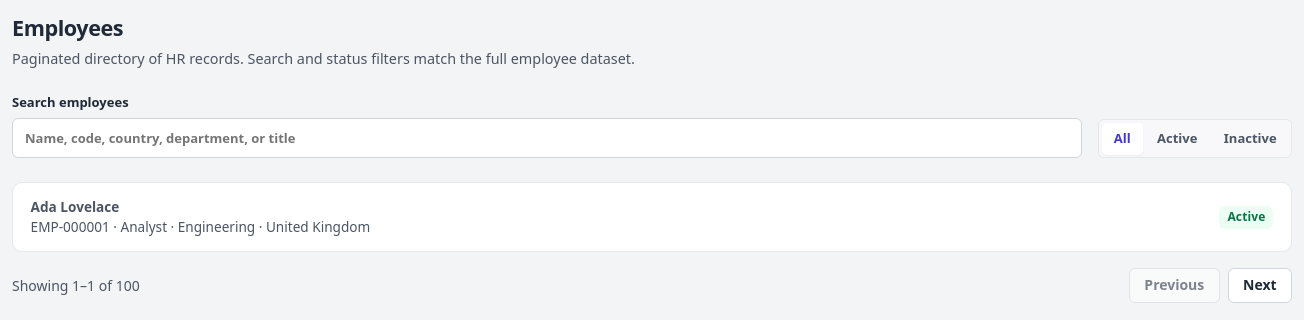
Test: search and status are requested together and reset pagination
Expected: the text "Ada Lovelace" is shown, [31,197,119,216]
Click the button "Next".
click(1260, 286)  # box [1228,268,1292,303]
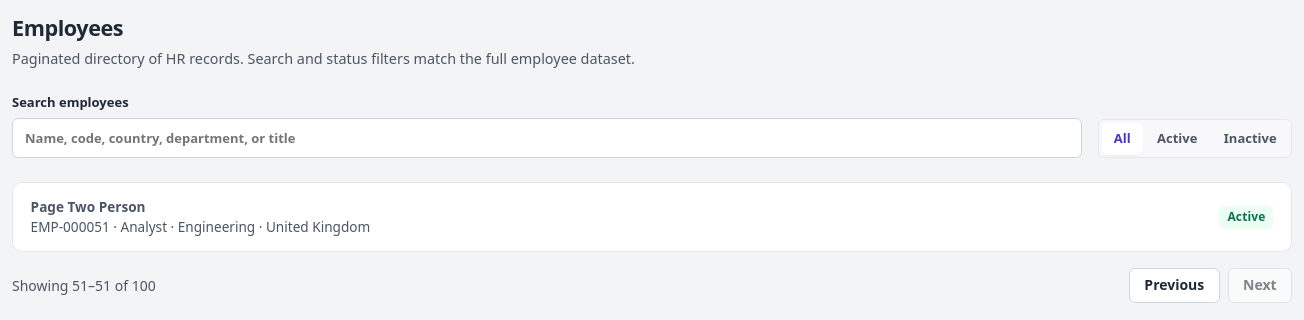
Now the text "Page Two Person" is shown, box [31,197,146,216]
Type "1000" into the search field labelled "Search employees".
click(547, 138); type("1000")  # box [12,118,1082,158]
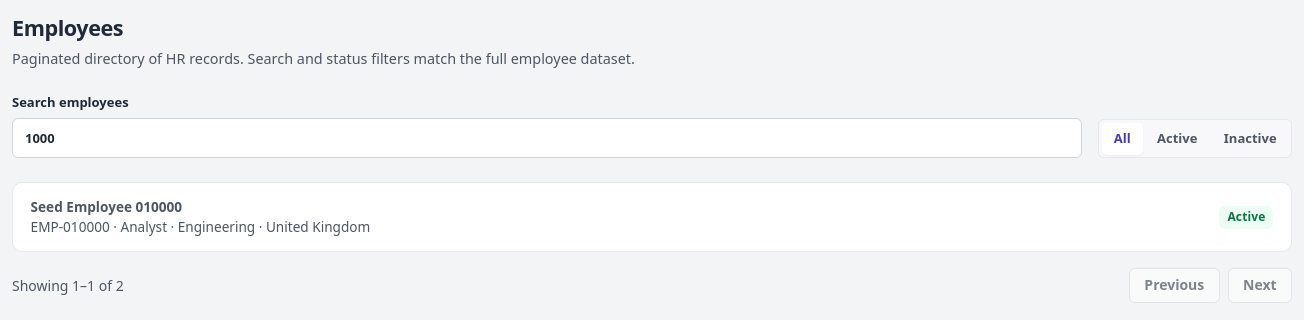
Now the text "Seed Employee 010000" is shown, box [31,197,182,216]
Click the button "Inactive".
click(1250, 139)  # box [1212,123,1289,155]
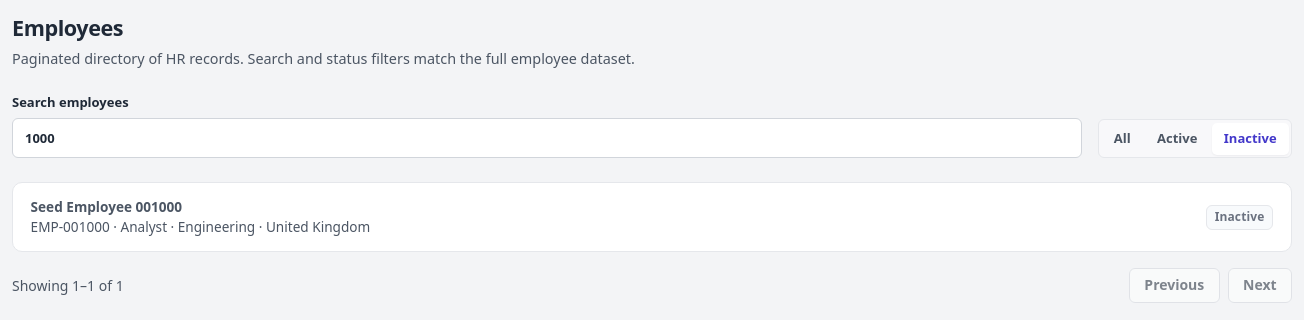
Now the text "Seed Employee 001000" is shown, box [31,197,182,216]
Now the text "Showing 1–1 of 1" is shown, box [12,275,124,296]
